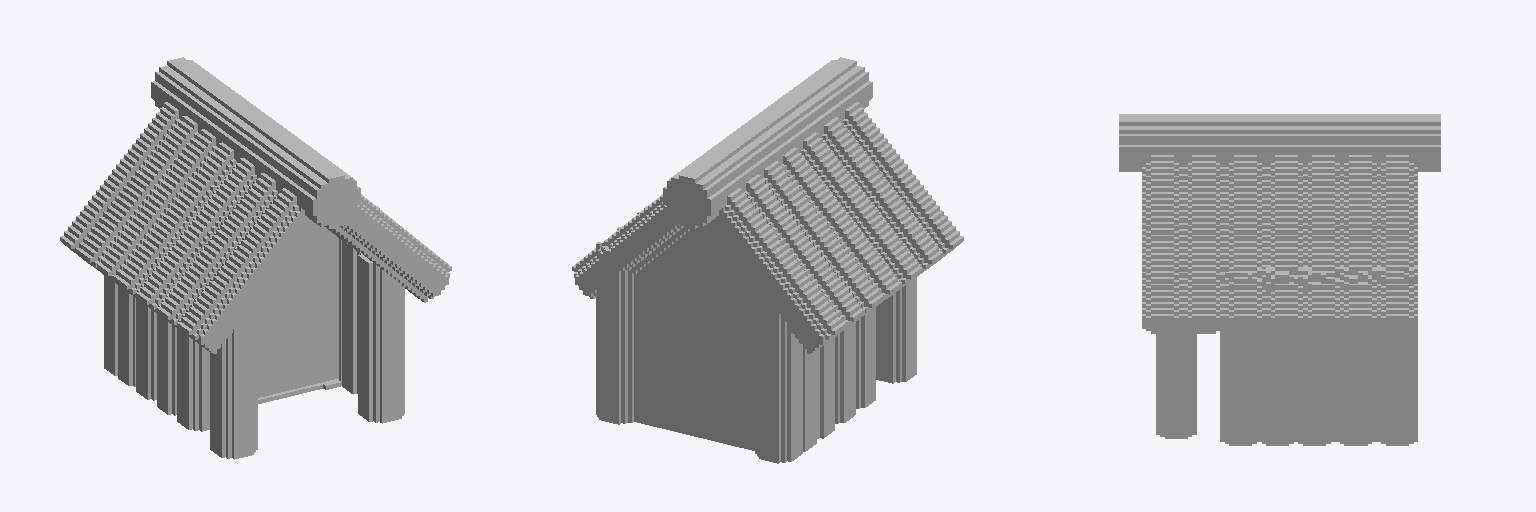
File: Mine entrance.obj
3 renders of one model, left to right at view 1: azimuth 30°, elevation 25°; view 2: azimuth 150°, elevation 25°; view 3: azimuth 270°, elevation 25°, orthographic.
Parts seen in each view (by area): view 1: object 1; view 2: object 1; view 3: object 1.
Part boxes in pixels (x1,y1,x2,y2): object 1: (60, 57, 451, 459); object 1: (572, 57, 963, 463); object 1: (1119, 114, 1440, 445).
Bounding box in the file's own units: 6.6 × 6.6 × 7.